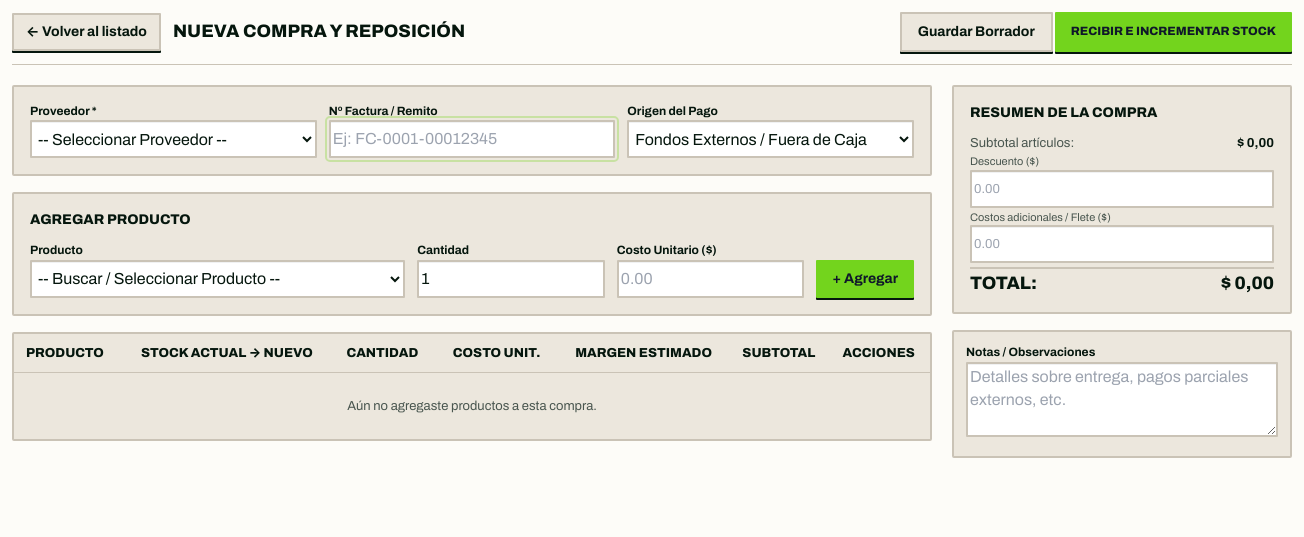
Test: PurchaseEditorView direct receipt recovery › rejects decimal item quantities instead of truncating them
Select "Yerba — Stock: 5" in the dropdown with test id "purchase-item-product-select" at (218, 279), box top-left (30, 260), bottom-right (405, 298)
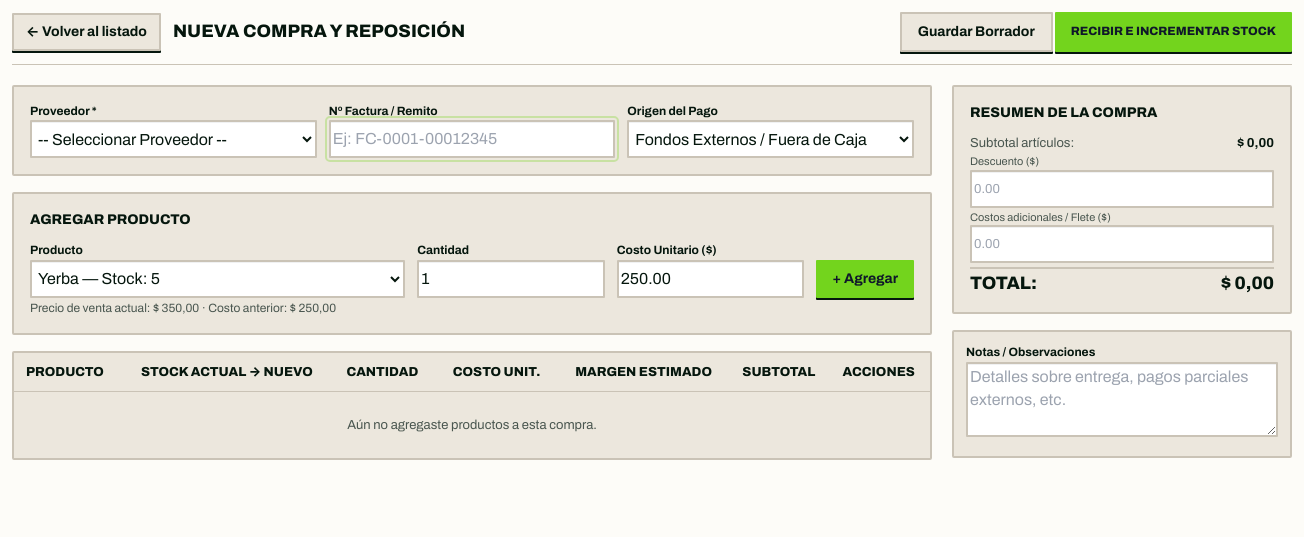
Replace the text in the number field with test id "purchase-item-quantity-input" with "1.5" at (511, 279), box top-left (417, 260), bottom-right (605, 298)
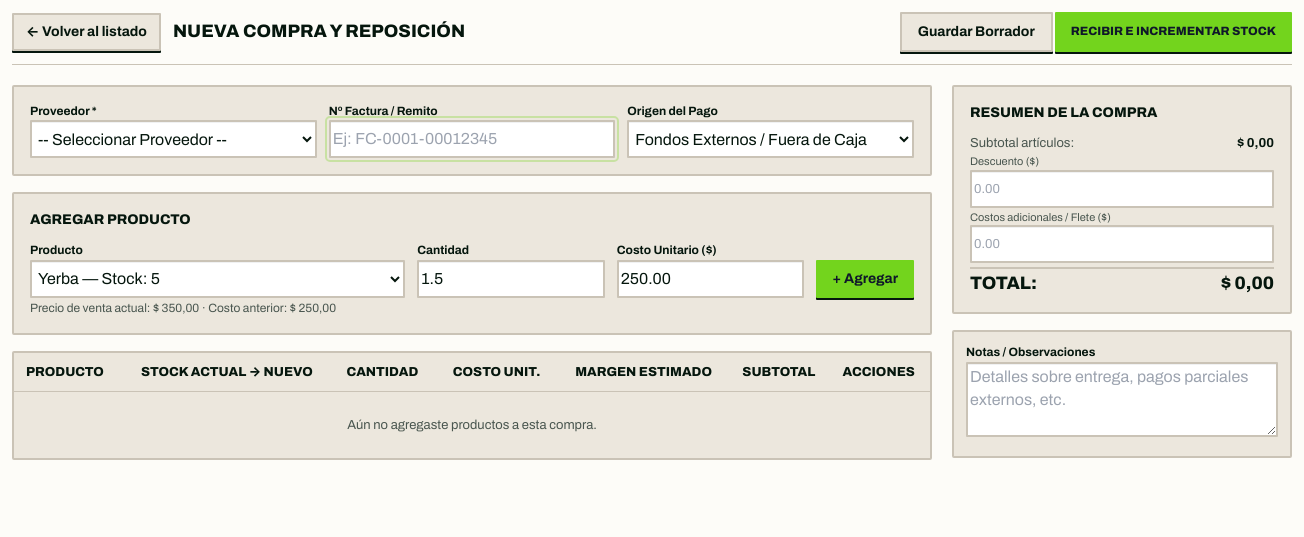
Click the button with test id "add-line-item-btn" at (865, 279), box top-left (816, 260), bottom-right (914, 298)
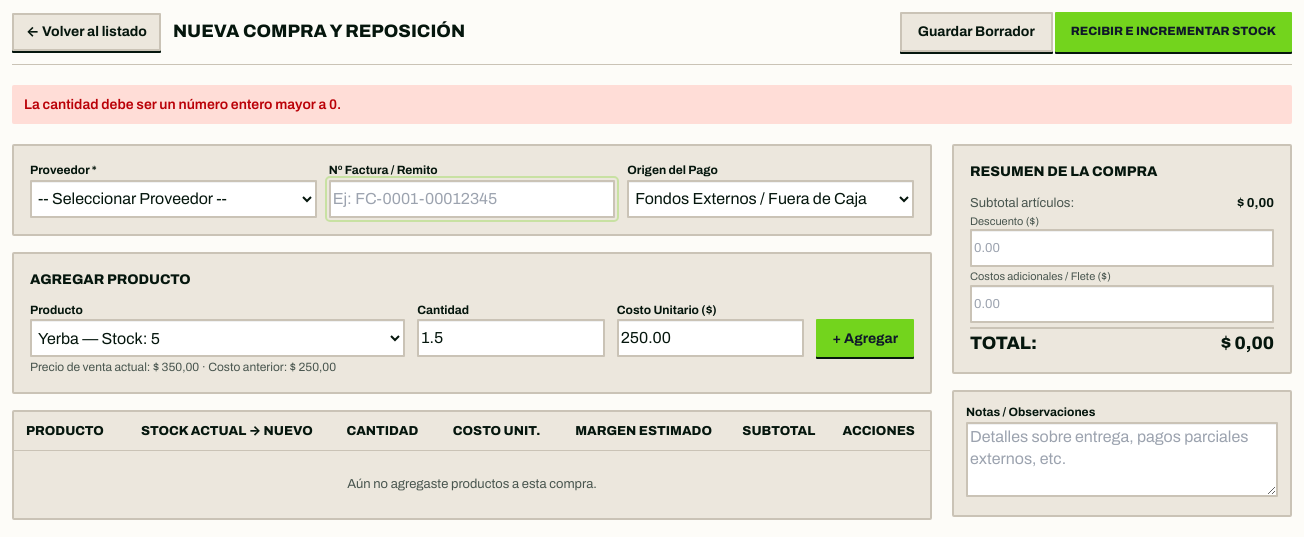
Expected: the message reads "La cantidad debe ser un número entero mayor a 0.", top-left (24, 97), bottom-right (341, 112)
